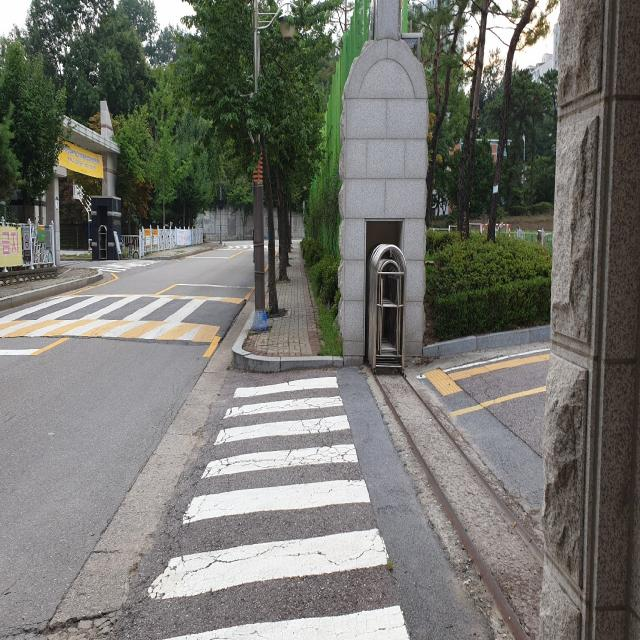횡단보도: (148, 377, 410, 640)
